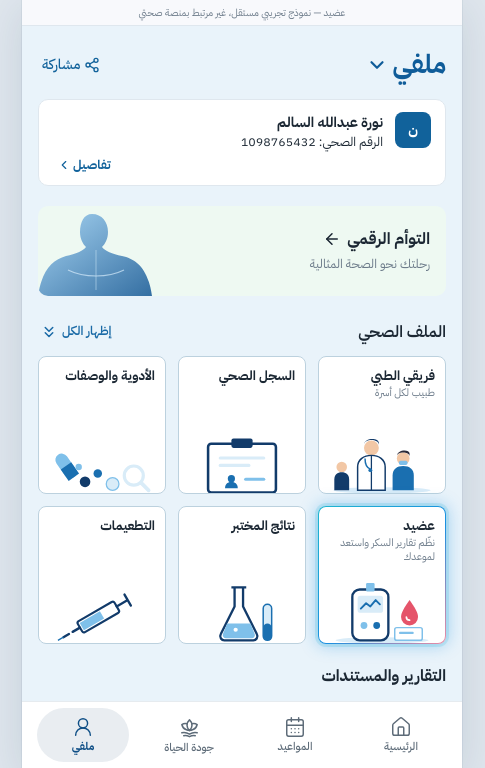
Scenario: Team shell and Adheed integration › opens Adheed from the team profile with exactly four navigation destinations
Click the link with test id "diabetes-journey-tile" at (382, 574), box left=318, top=506, right=446, bottom=644
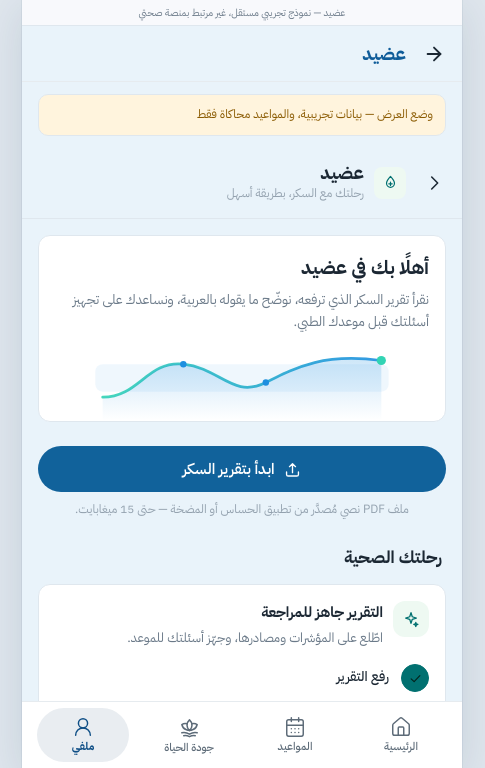
Check: the number of links is 4, box left=384, top=716, right=418, bottom=755; left=278, top=716, right=312, bottom=755; left=164, top=716, right=214, bottom=756; left=37, top=708, right=129, bottom=762
Check: the button "ابدأ بتقرير السكر" is shown, box left=38, top=446, right=446, bottom=492
